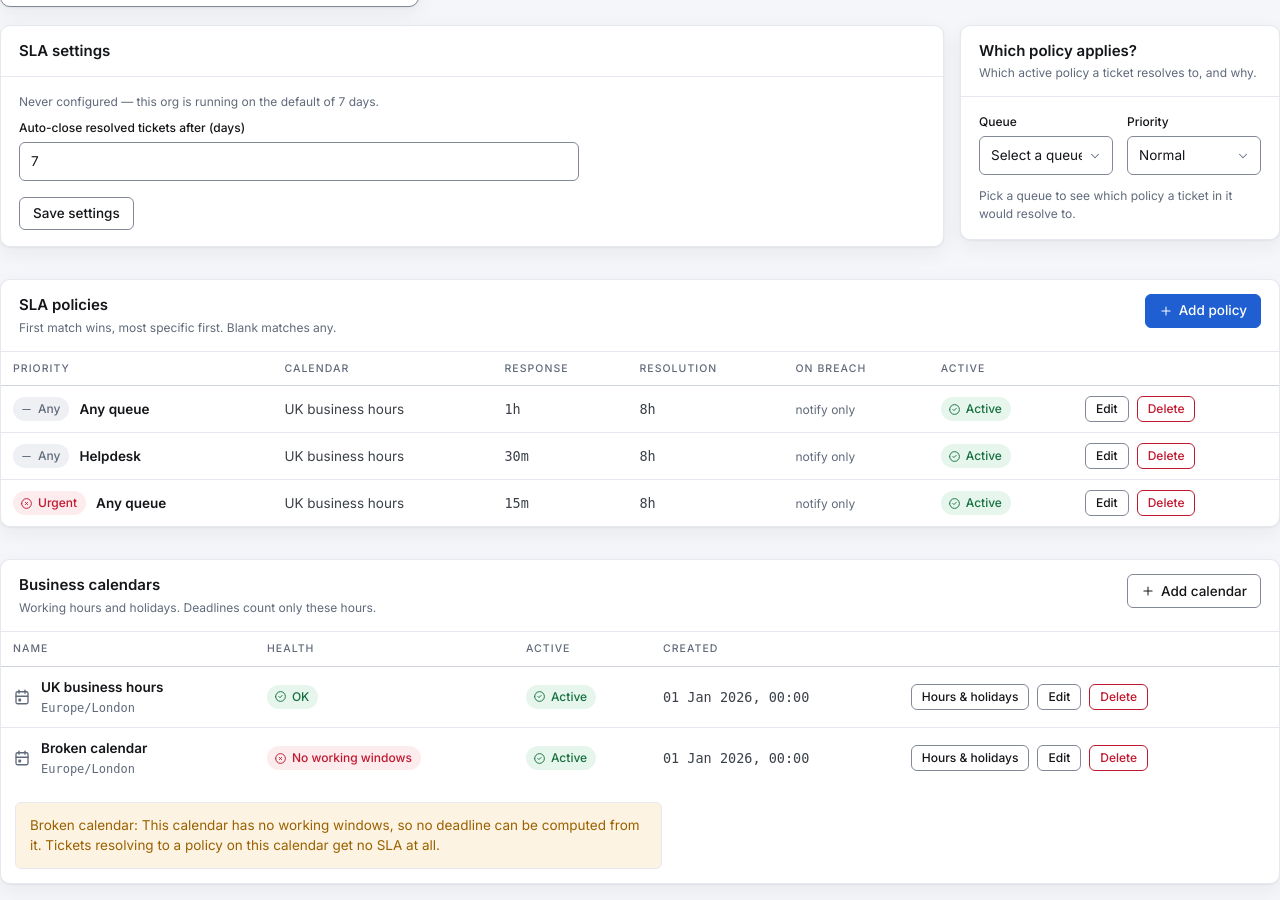
the weekly working-window editor › shows the calendar's holidays alongside its hours
The image size is (1280, 900).
(page scrolled)
Click the 1st button "Hours & holidays". click: x=970, y=697
box: [911, 684, 1030, 710]
(page scrolled)
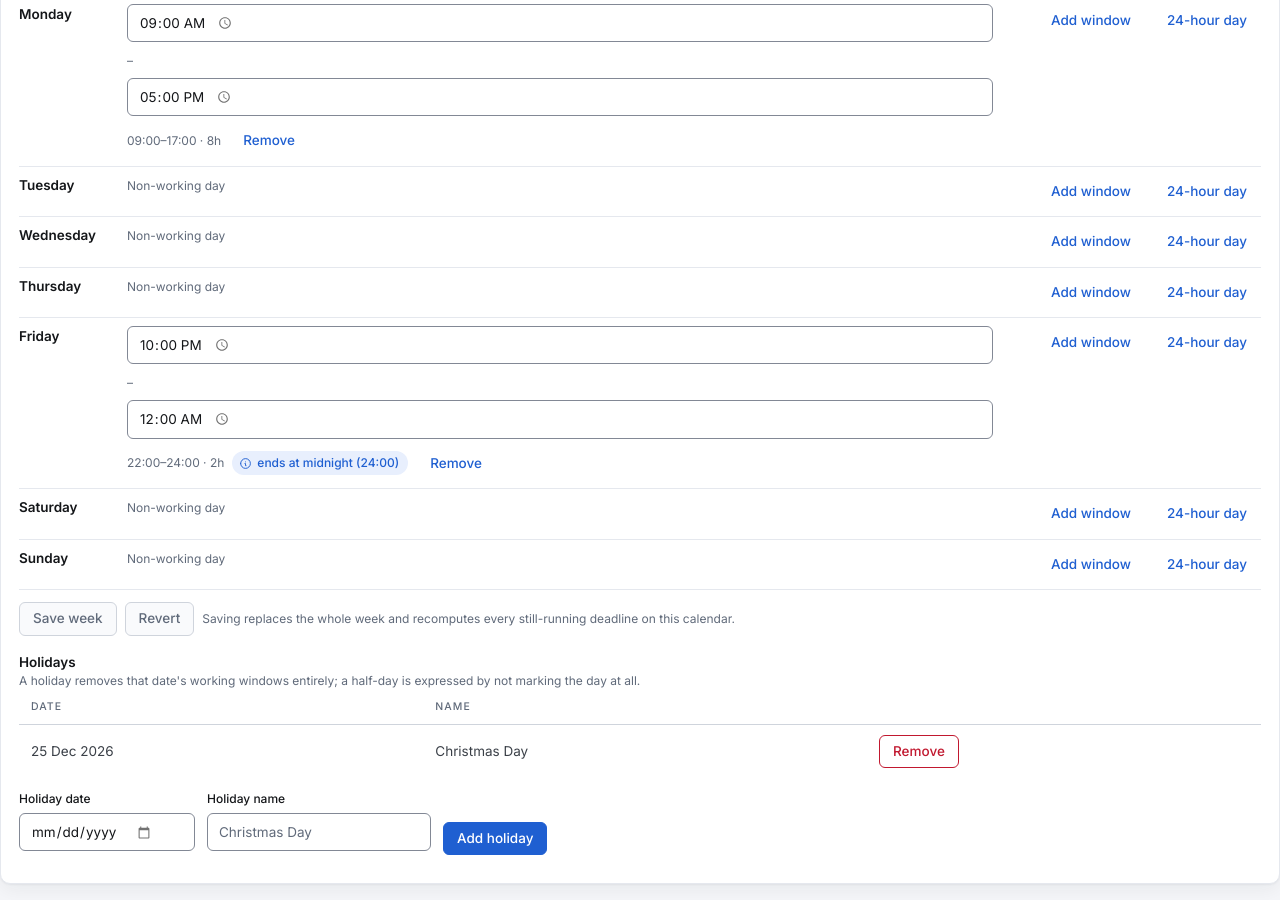
Now the text "Christmas Day" is shown, box [423, 724, 867, 778]
Now the text "25 Dec 2026" is shown, box [19, 724, 423, 778]
